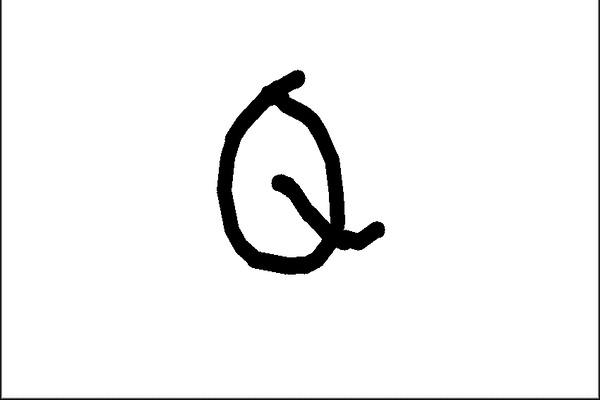Q: (195, 68, 393, 277)
